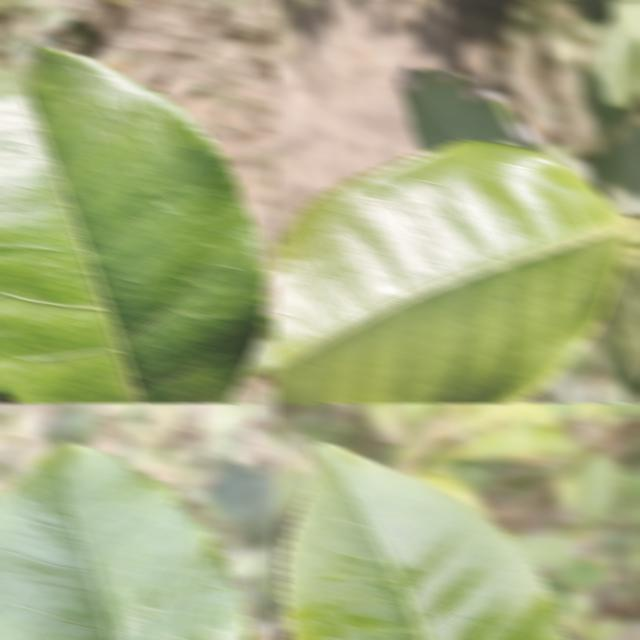Leaf: (0, 47, 267, 404), (272, 140, 628, 404), (280, 443, 568, 640), (0, 442, 255, 640), (395, 66, 533, 151), (581, 20, 637, 138), (209, 460, 278, 545), (455, 422, 574, 460), (602, 109, 640, 215), (608, 272, 640, 381), (529, 366, 600, 404), (608, 0, 640, 73), (272, 473, 313, 522), (566, 402, 640, 421)
